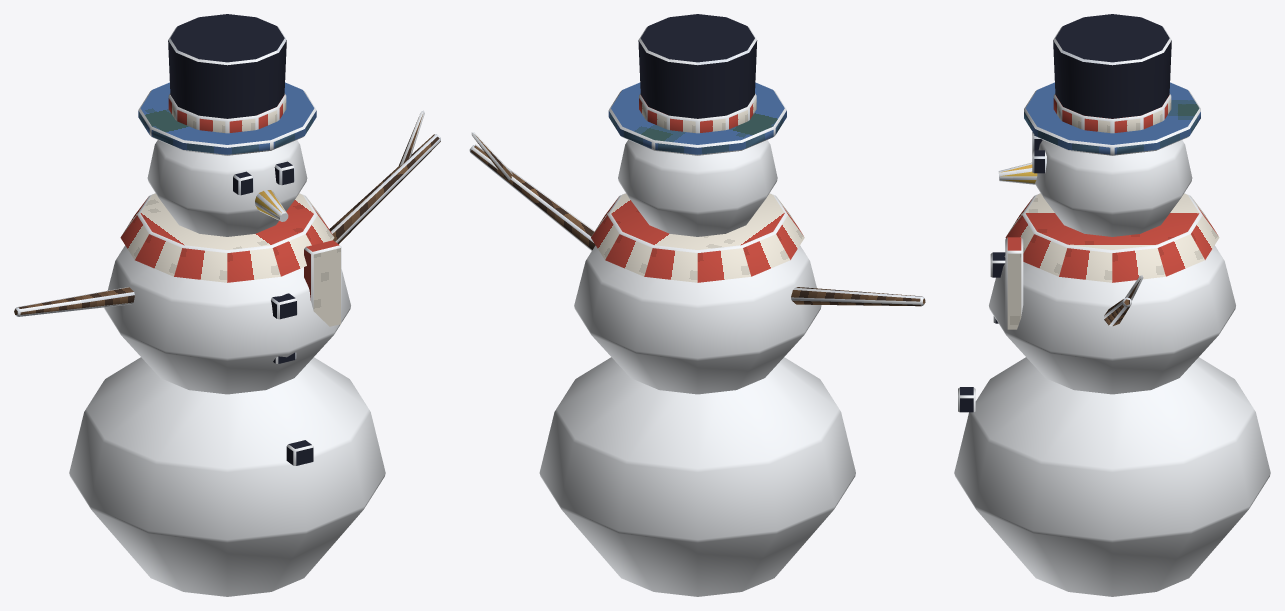
Rendered from spec_snowman_3.glb.
3 views of the same model, side by side, from view 1: azimuth 30°, elevation 25°; view 2: azimuth 150°, elevation 25°; view 3: azimuth 270°, elevation 25° (orthographic).
Parts seen in each view (by area): view 1: spec_snowman_3; view 2: spec_snowman_3; view 3: spec_snowman_3.
Part boxes in pixels (bbox=[...]): spec_snowman_3: bbox=[14, 14, 440, 596]; spec_snowman_3: bbox=[469, 14, 925, 596]; spec_snowman_3: bbox=[954, 14, 1270, 596].
Size of the model in its own units: 1.71 by 1.94 by 1.06.
Materials: 6 (6 with a texture image).
